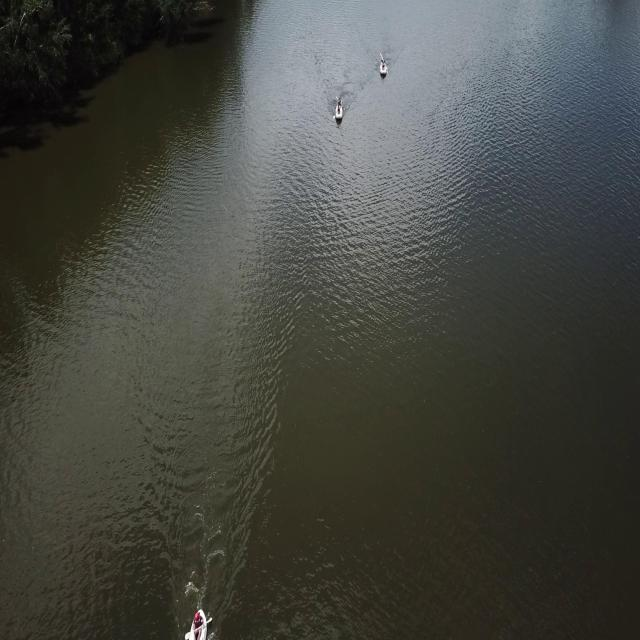kayak: (180, 604, 212, 640), (333, 98, 345, 126), (378, 58, 389, 82)
